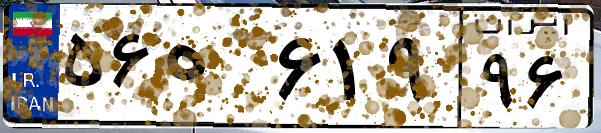1: (330, 28, 385, 110)
5: (57, 26, 110, 100)
6: (270, 28, 330, 110), (525, 38, 570, 115), (110, 28, 158, 98)
9: (385, 28, 445, 110), (475, 38, 525, 113)
ه: (158, 20, 270, 120)
